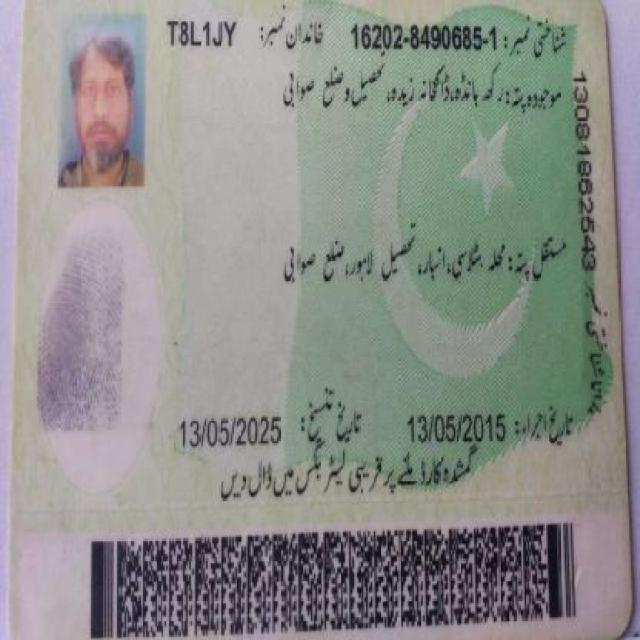Back: (21, 4, 618, 634)
